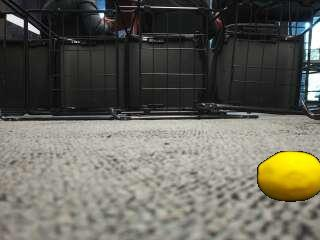lemon: (259, 151, 320, 200)
